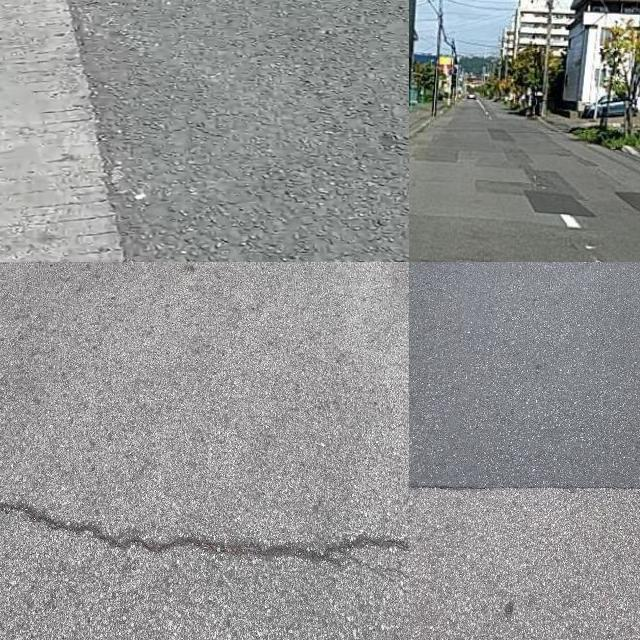Melintang: (0, 487, 409, 566)
Sambungan: (409, 262, 640, 490), (0, 0, 137, 262), (529, 189, 589, 217), (619, 190, 640, 216)
